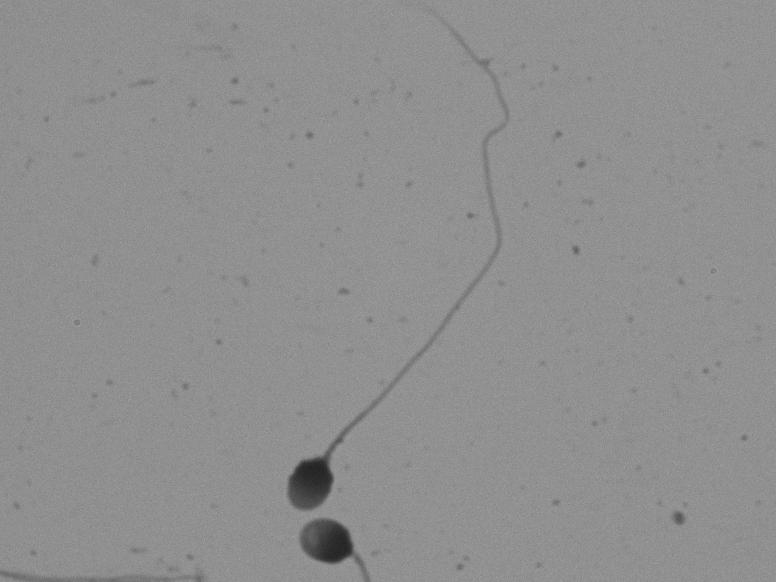Normal: (211, 15, 559, 517)
